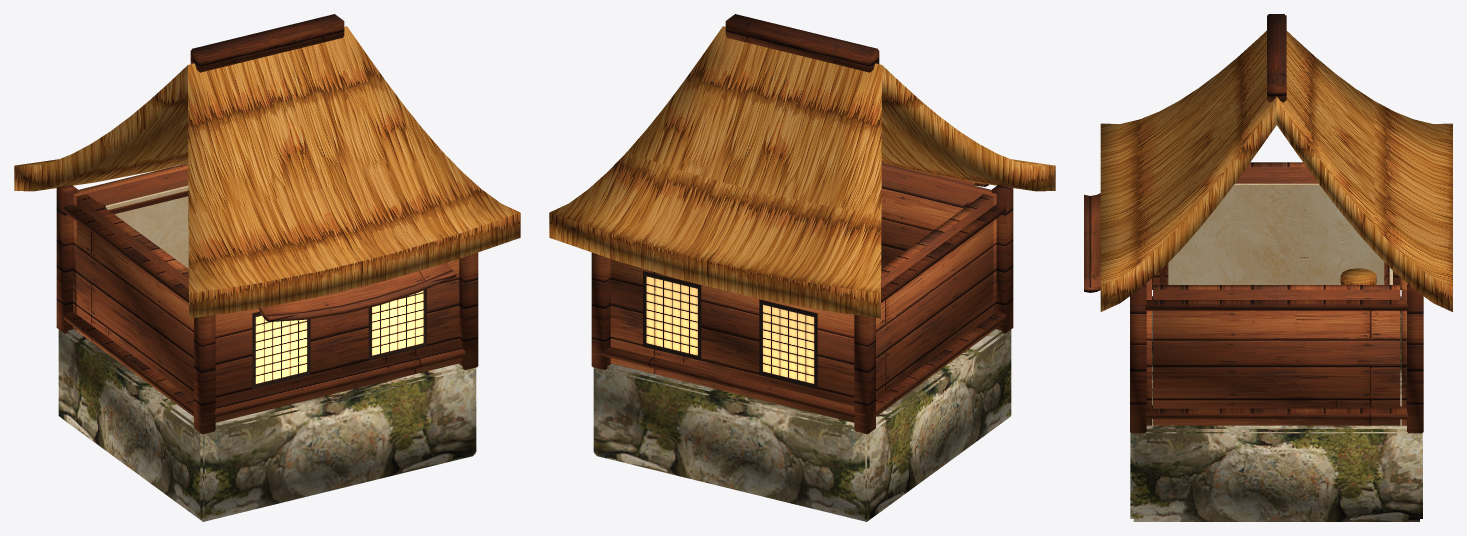
Rendered from minka_hero_v0.glb.
3 renders of one model, left to right at view 1: azimuth 30°, elevation 25°; view 2: azimuth 150°, elevation 25°; view 3: azimuth 270°, elevation 25°, orthographic.
Visible parts, largest first — view 1: peek_roof_thatch, exterior_stone, exterior_cedar, exterior_charred, exterior_shoji, exterior_hisashi, peek_roof_ridge, interior_room_walls; view 2: peek_roof_thatch, exterior_stone, exterior_cedar, exterior_charred, exterior_shoji, peek_roof_ridge; view 3: peek_roof_thatch, exterior_cedar, exterior_stone, interior_room_walls, exterior_charred, peek_roof_ridge, exterior_hisashi, interior_props_straw.
Boxes of the visible parts, x1,y1,x2,y2 form: peek_roof_thatch: [14, 26, 520, 318]; exterior_stone: [58, 329, 476, 521]; exterior_cedar: [73, 163, 459, 422]; exterior_charred: [56, 184, 478, 434]; exterior_shoji: [252, 289, 426, 389]; exterior_hisashi: [258, 262, 456, 321]; peek_roof_ridge: [190, 14, 344, 72]; interior_room_walls: [105, 185, 188, 268]; peek_roof_thatch: [549, 26, 1055, 318]; exterior_stone: [593, 329, 1011, 521]; exterior_cedar: [610, 163, 996, 422]; exterior_charred: [591, 184, 1013, 434]; exterior_shoji: [643, 271, 817, 389]; peek_roof_ridge: [725, 14, 879, 72]; peek_roof_thatch: [1100, 30, 1452, 311]; exterior_cedar: [1145, 162, 1407, 425]; exterior_stone: [1130, 296, 1422, 521]; interior_room_walls: [1168, 183, 1392, 284]; exterior_charred: [1130, 277, 1423, 433]; peek_roof_ridge: [1267, 14, 1286, 102]; exterior_hisashi: [1084, 193, 1100, 292]; interior_props_straw: [1340, 268, 1376, 284].
Bounding box in the file's own units: 4.67 × 5.42 × 4.46.
13 materials, 9 textured.
